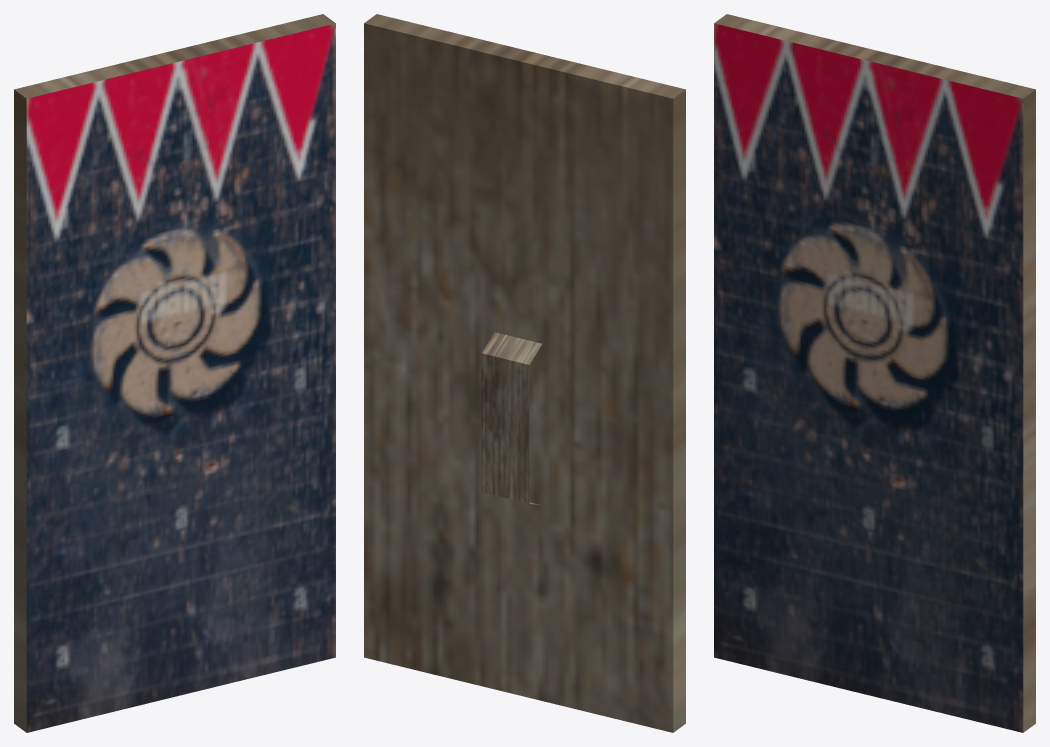
The model's file is yayoi_s_tedate_c.dae.
3 renders of one model, left to right at view 1: azimuth 30°, elevation 25°; view 2: azimuth 150°, elevation 25°; view 3: azimuth 330°, elevation 25°, orthographic.
Visible parts, largest first — view 1: shield_tedate_c; view 2: shield_tedate_c; view 3: shield_tedate_c.
Boxes of the visible parts, bbox=[...] form: shield_tedate_c: bbox=[14, 14, 335, 732]; shield_tedate_c: bbox=[364, 14, 685, 732]; shield_tedate_c: bbox=[714, 14, 1035, 732].
Size of the model in its own units: 1.04 by 0.1517 by 2.04.
